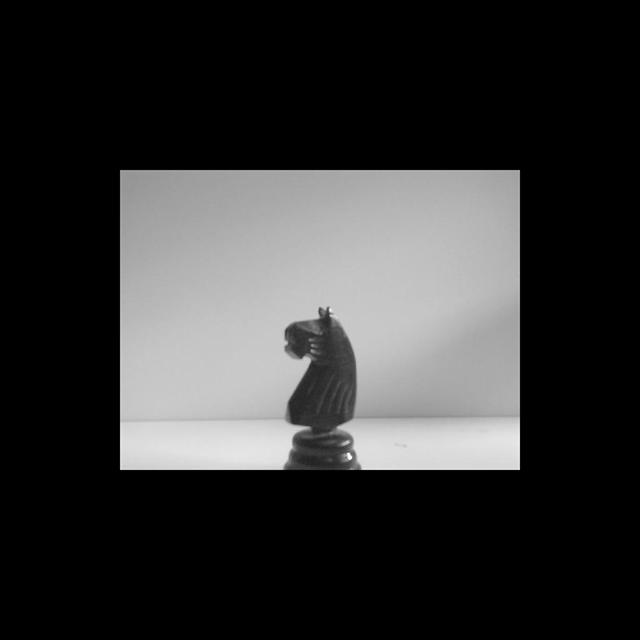black-knight: (274, 300, 364, 469)
